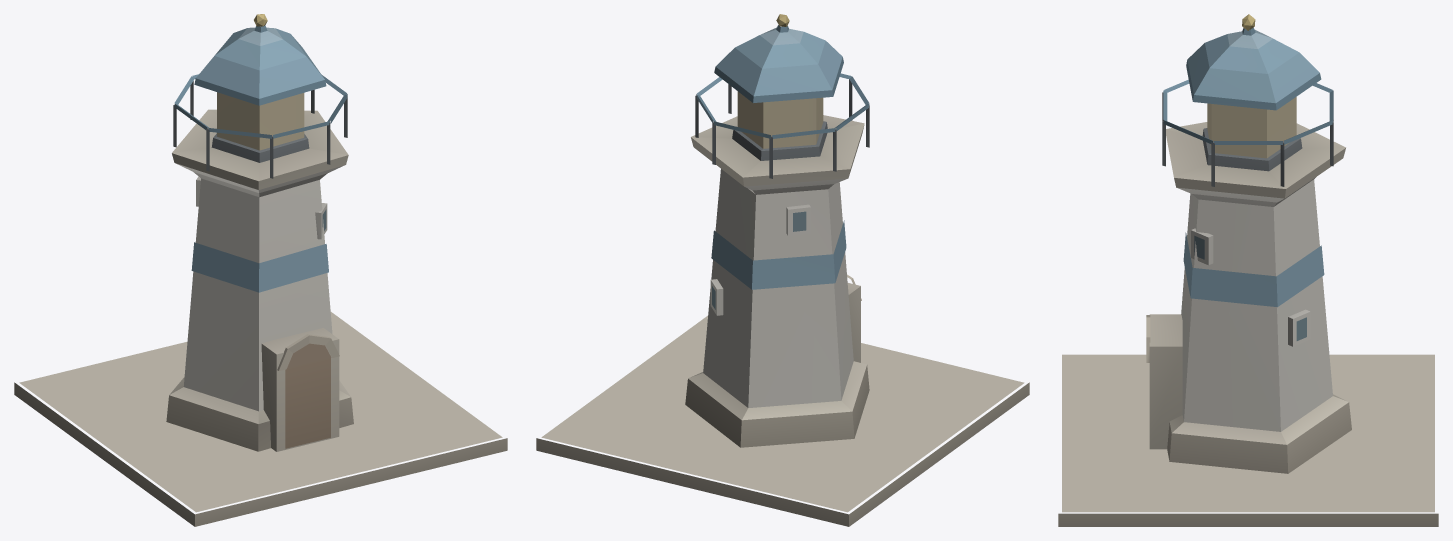
The model's file is light.lod1.glb.
3 renders of one model, left to right at view 1: azimuth 30°, elevation 25°; view 2: azimuth 150°, elevation 25°; view 3: azimuth 270°, elevation 25°, orthographic. The views are drawn at different scales.
Bounding box in the file's own units: 5.2 × 6.49 × 5.2.
